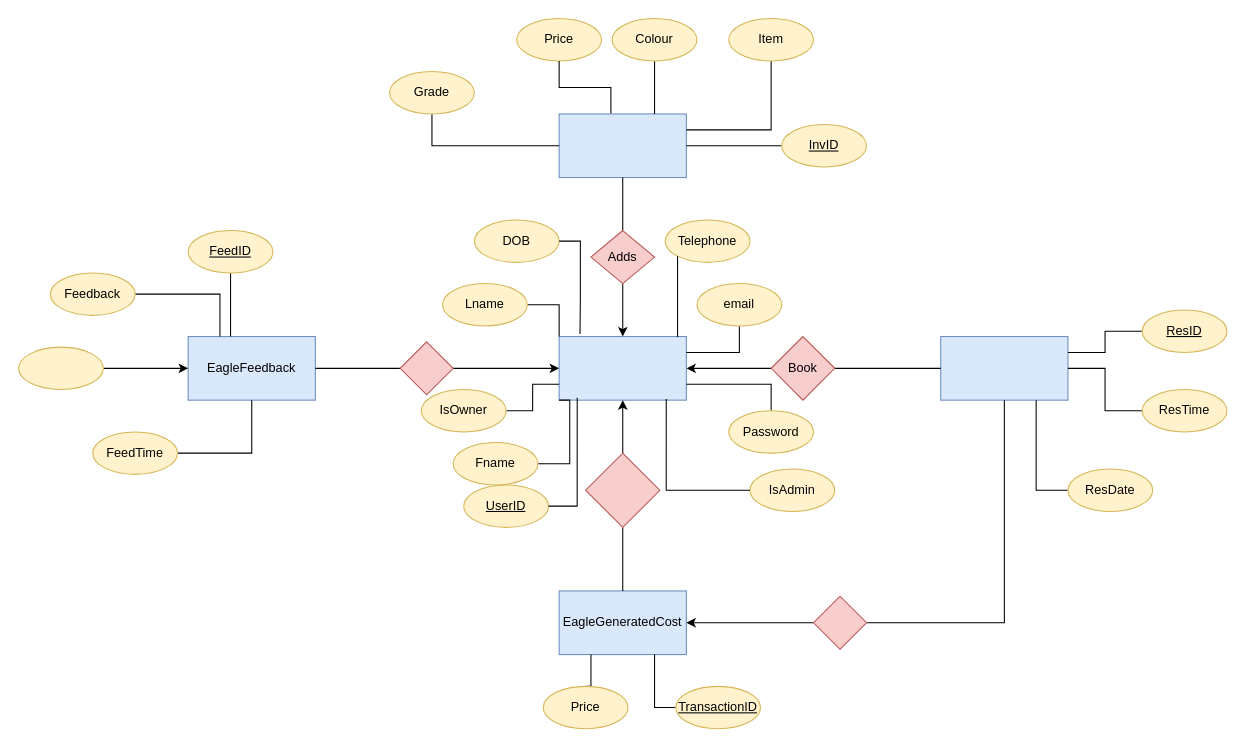
Some shapes in this 1245 by 747 pixel diagram are drawn without their labels. The shapes that lost their labels are listed below. From the top down, each one's box as (x1, y1, x2, y2) in pixels, then its label:
(558, 113, 686, 178): EagleInventory
(17, 346, 103, 390): FeedDate
(399, 341, 453, 395): Gives
(558, 335, 686, 400): EagleAccount
(940, 335, 1068, 400): EagleResrevation
(585, 452, 660, 527): Generate
(812, 595, 867, 649): Needs
